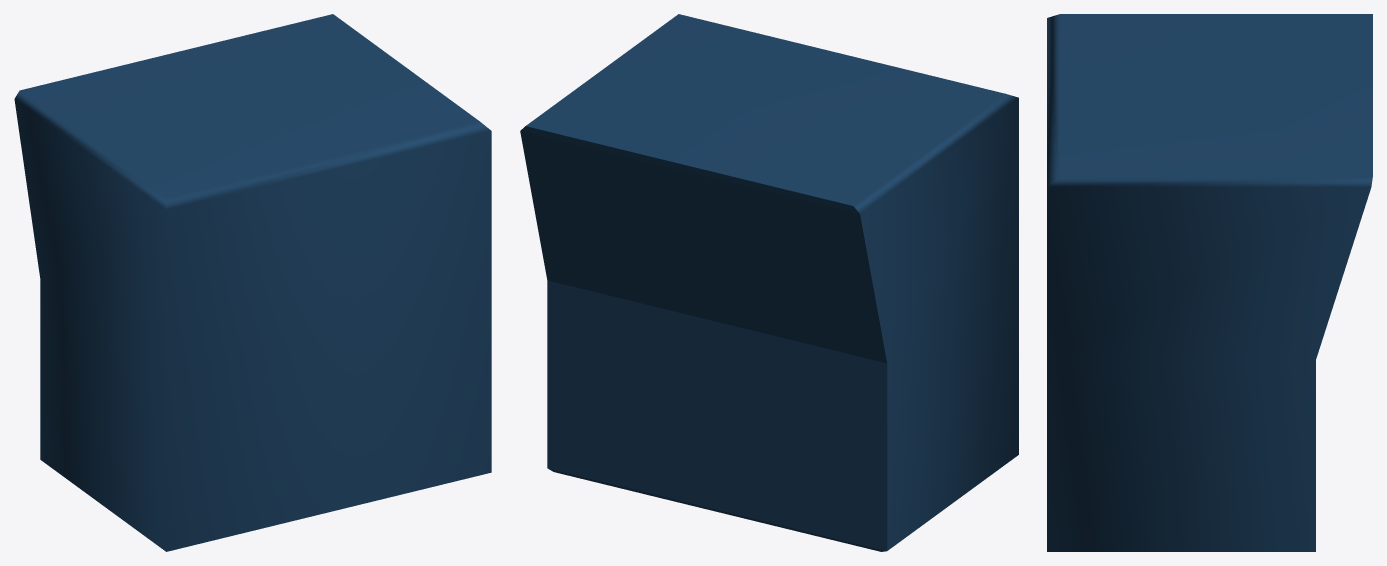
Rendered from B_Stone_05_Break_A.fbx.
3 renders of one model, left to right at view 1: azimuth 30°, elevation 25°; view 2: azimuth 150°, elevation 25°; view 3: azimuth 270°, elevation 25°, orthographic. The views are drawn at different scales.
Visible parts, largest first — view 1: B_Stone_05_Break_A; view 2: B_Stone_05_Break_A; view 3: B_Stone_05_Break_A.
Boxes of the visible parts, <box> form: B_Stone_05_Break_A: <box>14,14,491,551</box>; B_Stone_05_Break_A: <box>520,14,1018,551</box>; B_Stone_05_Break_A: <box>1047,14,1372,551</box>.
Bounding box in the file's own units: 94.97 × 97.88 × 77.2.
